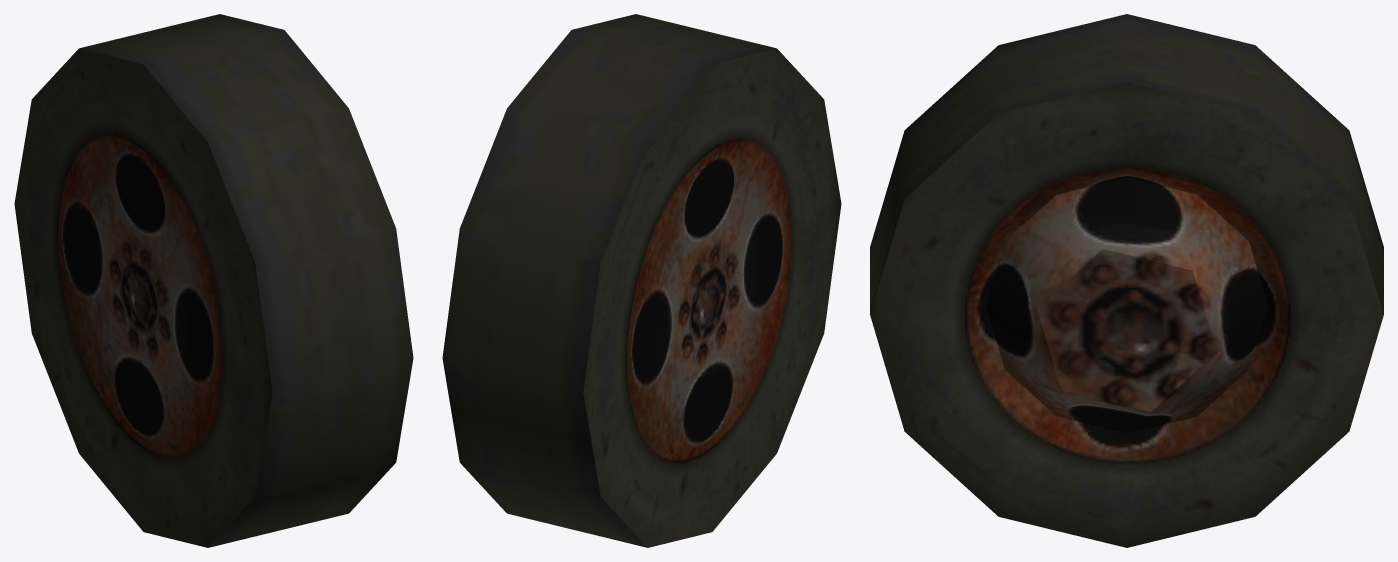
File: rueda_del_izq_mate.obj
3 renders of one model, left to right at view 1: azimuth 30°, elevation 25°; view 2: azimuth 150°, elevation 25°; view 3: azimuth 270°, elevation 25°, orthographic.
Parts seen in each view (by area): view 1: mesh_3_; view 2: mesh_3_; view 3: mesh_3_.
Boxes of the visible parts, x1=… form: mesh_3_: x1=14, y1=14, x2=413, y2=547; mesh_3_: x1=442, y1=14, x2=841, y2=547; mesh_3_: x1=870, y1=14, x2=1383, y2=547.
Bounding box in the file's own units: 2.43 × 6.29 × 6.29.
